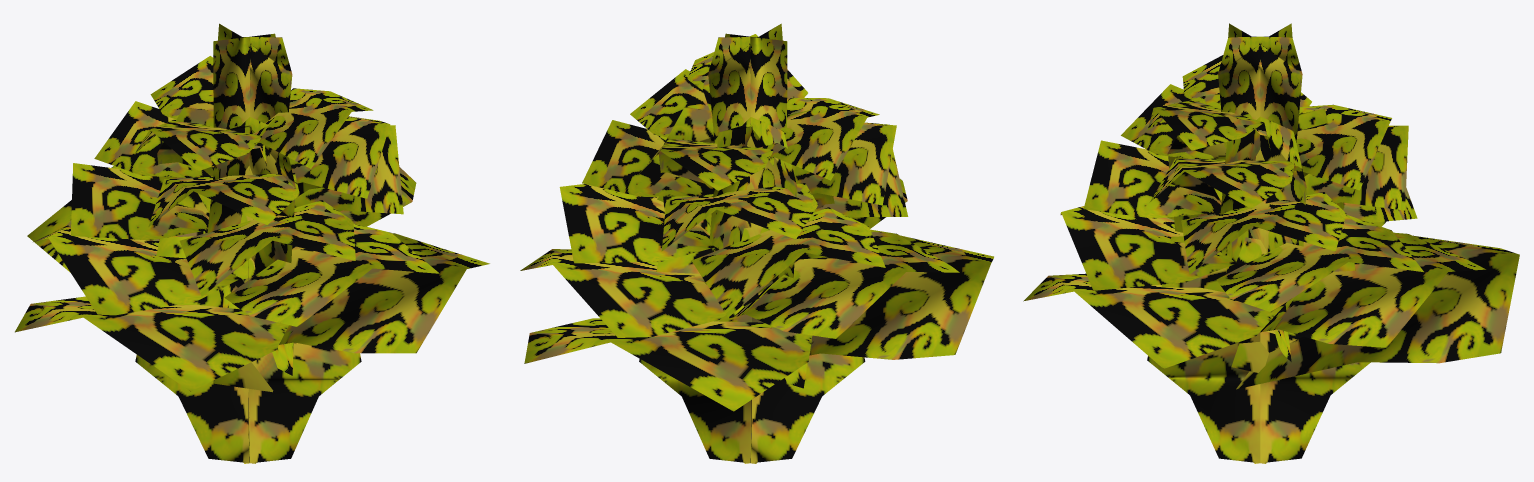
Rendered from Plant4_3.obj.
3 views of the same model, side by side, from view 1: azimuth 30°, elevation 25°; view 2: azimuth 150°, elevation 25°; view 3: azimuth 270°, elevation 25° (orthographic).
Visible parts, largest first — view 1: swirl; view 2: swirl; view 3: swirl.
Boxes of the visible parts, x1=… form: swirl: x1=15, y1=23, x2=489, y2=463; swirl: x1=520, y1=23, x2=993, y2=463; swirl: x1=1023, y1=23, x2=1519, y2=463.
Size of the model in its own units: 38.66 by 39.03 by 40.33.
Materials: 1 (1 with a texture image).
